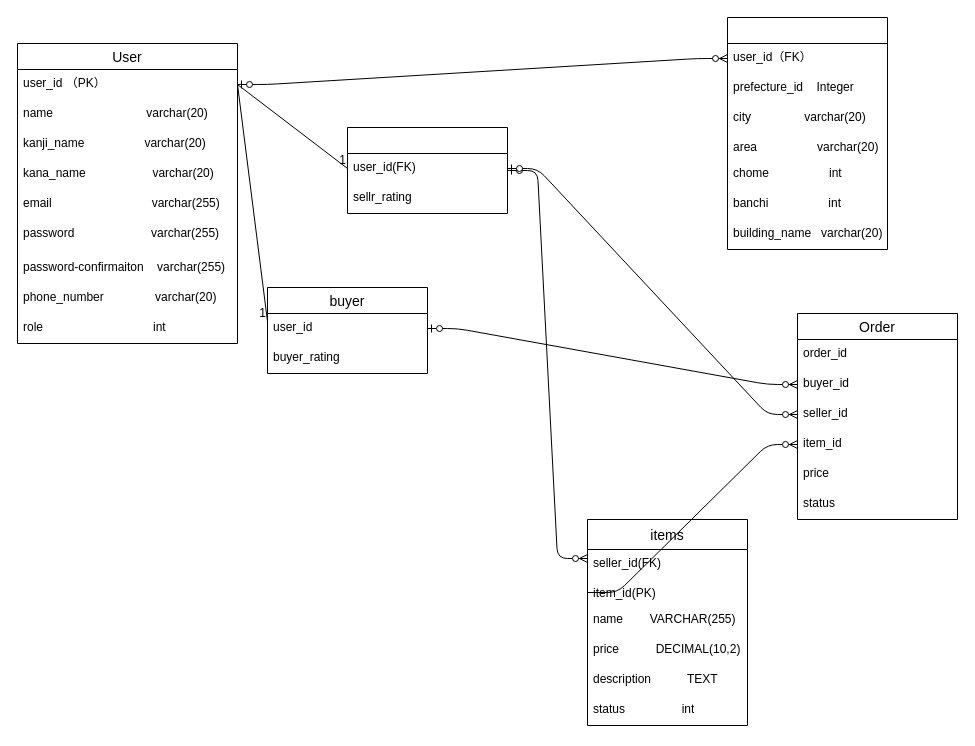
Some shapes in this 975 by 746 pixel diagram are drawn without their labels. Each missing label, with the box of its shape:
address: (726, 16, 888, 250)
Seller: (346, 126, 508, 214)
